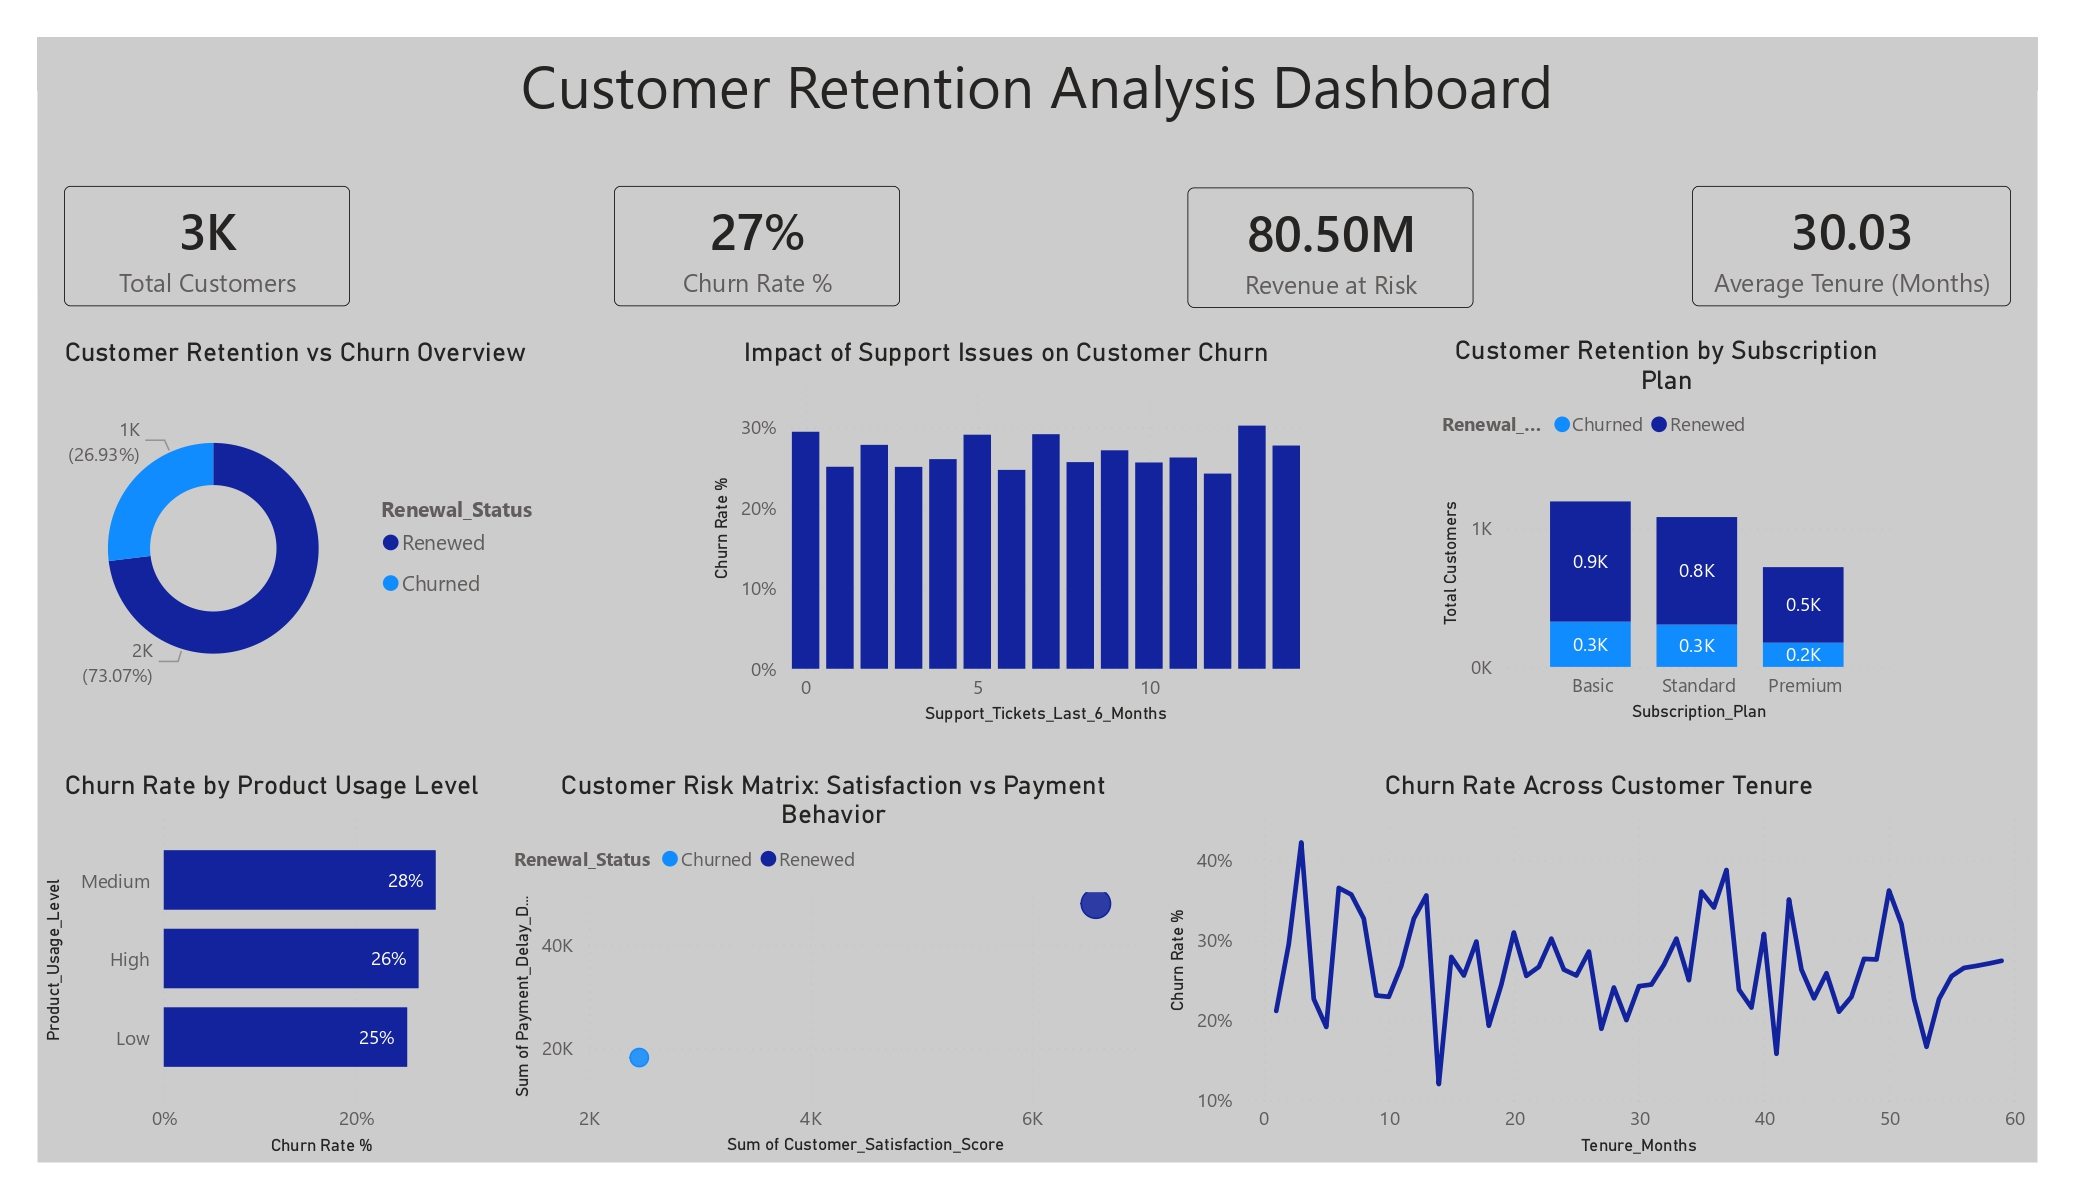

The page's visual inventory and layout, read from the dashboard file:
{"tool":"powerbi","page":{"name":"Page 1","canvas":[1280,720],"ordinal":0},"visuals":[{"type":"textbox","box":[0,0,1280.3,78.2],"z":0},{"type":"cardVisual","fields":{"Data":["Sheet1.Total Customers"]},"box":[0,78.3,217.7,111.3],"z":1000},{"type":"cardVisual","fields":{"Data":["Sheet1.Churn Rate %"]},"box":[352.2,78.3,217.7,111.3],"z":2000},{"type":"cardVisual","fields":{"Data":["Sheet1.Revenue at Risk"]},"box":[719,79.5,217.7,111.3],"z":3000},{"type":"cardVisual","fields":{"Data":["Sheet1.Average Tenure (Months)"]},"box":[1041.9,78.3,238.5,111.3],"z":4000},{"type":"donutChart","title":"Customer Retention vs Churn Overview","fields":{"Category":["Sheet1.Renewal_Status"],"Y":["Sheet1.Total Customers"]},"box":[0,190.8,330.2,253.1],"z":5000},{"type":"barChart","title":"Churn Rate by Product Usage Level","fields":{"Category":["Sheet1.Product_Usage_Level"],"Y":["Sheet1.Churn Rate %"]},"box":[0,468.3,299.6,251.9],"z":6000},{"type":"columnChart","title":"Impact of Support Issues on Customer Churn","fields":{"Category":["Sheet1.Support_Tickets_Last_6_Months"],"Y":["Sheet1.Churn Rate %"]},"box":[426.8,190.8,386.4,253.1],"z":7000},{"type":"scatterChart","title":"Customer Risk Matrix: Satisfaction vs Payment Behavior","fields":{"X":["Sum(Sheet1.Customer_Satisfaction_Score)"],"Y":["Sum(Sheet1.Payment_Delay_Days)"],"Size":["Sum(Sheet1.Total_Revenue)"],"Series":["Sheet1.Renewal_Status"]},"box":[299.6,468.3,419.4,251.9],"z":8000},{"type":"columnChart","title":"Customer Retention by Subscription Plan","fields":{"Category":["Sheet1.Subscription_Plan"],"Y":["Sheet1.Total Customers"],"Series":["Sheet1.Renewal_Status"]},"box":[893.9,189.5,297.1,253.1],"z":9000},{"type":"lineChart","title":"Churn Rate Across Customer Tenure","fields":{"Y":["Sheet1.Churn Rate %"],"Category":["Sheet1.Tenure_Months"]},"box":[719,468.3,561.3,251.9],"z":10000}]}

Visuals, with their boxes on the page's 1280x720 design canvas (x1, y1, x2, y2). These are canvas units, not pixel positions in the 2075x1200 screenshot, which may show the page scaled, cropped or inside an application window:
textbox: bbox=(0, 0, 1280, 78)
cardVisual - Sheet1.Total Customers: bbox=(0, 78, 218, 190)
cardVisual - Sheet1.Churn Rate %: bbox=(352, 78, 570, 190)
cardVisual - Sheet1.Revenue at Risk: bbox=(719, 80, 937, 191)
cardVisual - Sheet1.Average Tenure (Months): bbox=(1042, 78, 1280, 190)
"Customer Retention vs Churn Overview" donutChart: bbox=(0, 191, 330, 444)
"Churn Rate by Product Usage Level" barChart: bbox=(0, 468, 300, 720)
"Impact of Support Issues on Customer Churn" columnChart: bbox=(427, 191, 813, 444)
"Customer Risk Matrix: Satisfaction vs Payment Behavior" scatterChart: bbox=(300, 468, 719, 720)
"Customer Retention by Subscription Plan" columnChart: bbox=(894, 190, 1191, 443)
"Churn Rate Across Customer Tenure" lineChart: bbox=(719, 468, 1280, 720)
